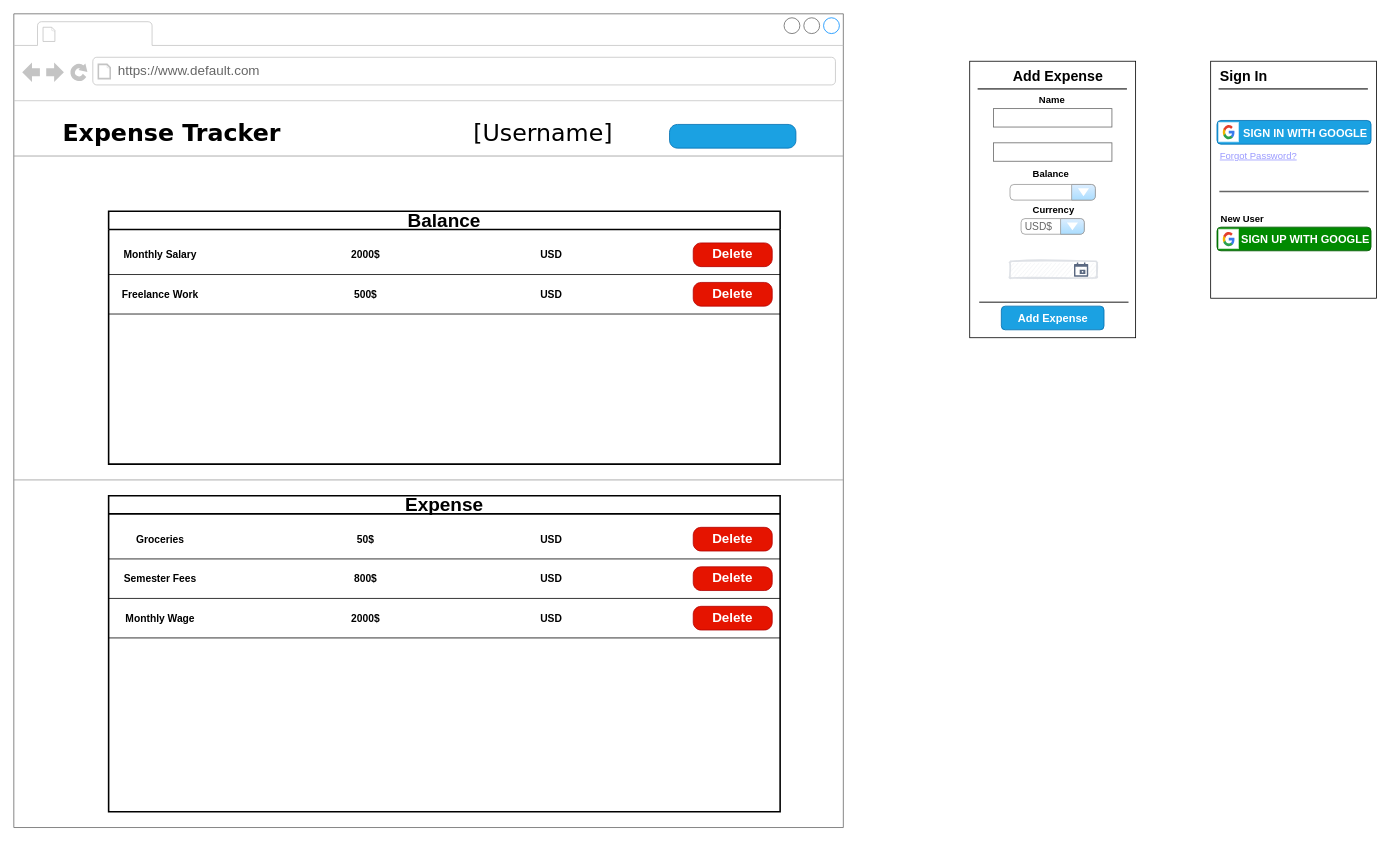
This 1390x841 diagram has some shape labels left out. The centre of each missing label's shape, as x and y in pixels:
"Date" goes at [1052,251].
"mm/dd/yyyy" goes at [1053,269].
"Page 1" goes at [104,33].
"Savings" goes at [1052,192].
"Sign Out" goes at [732,136].
"Value" goes at [1052,133].
